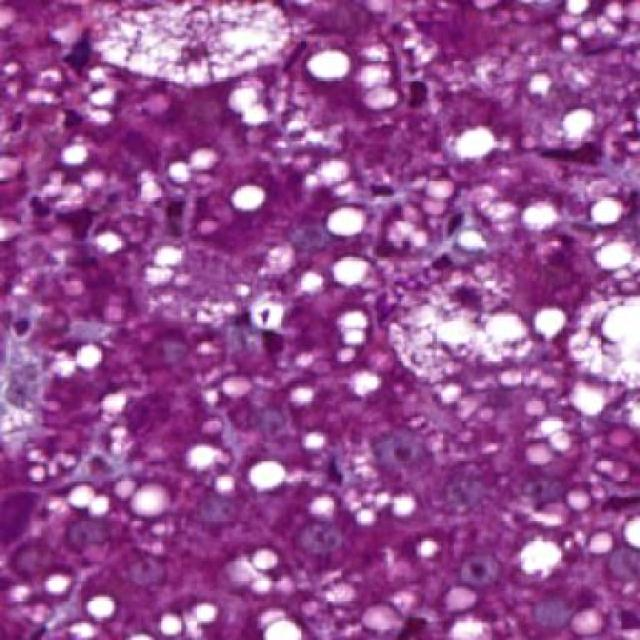ballooning: (389, 246, 537, 387), (84, 9, 294, 92)
